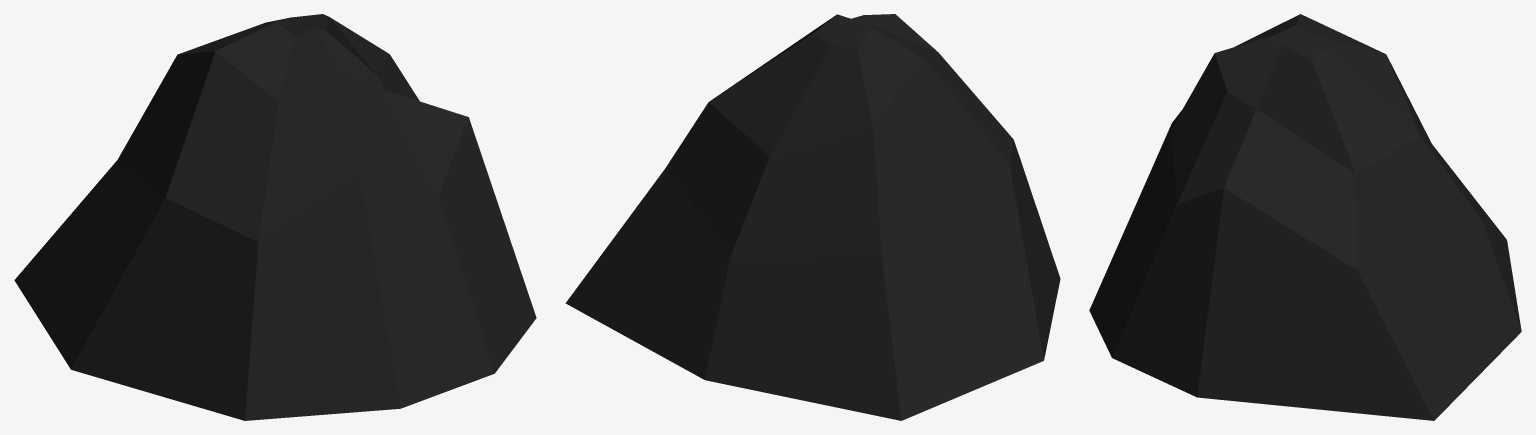
Rendered from Rock.1.fbx.
The picture shows the model from 3 angles, left to right: view 1: azimuth 30°, elevation 25°; view 2: azimuth 150°, elevation 25°; view 3: azimuth 270°, elevation 25°; orthographic projection. The views are drawn at different scales.
Parts seen in each view (by area): view 1: Rock.001; view 2: Rock.001; view 3: Rock.001.
Boxes of the visible parts, x1,y1,x2,y2 form: Rock.001: (14, 14, 536, 420); Rock.001: (565, 14, 1060, 420); Rock.001: (1089, 14, 1521, 420).
Bounding box in the file's own units: 168 × 109 × 151.
